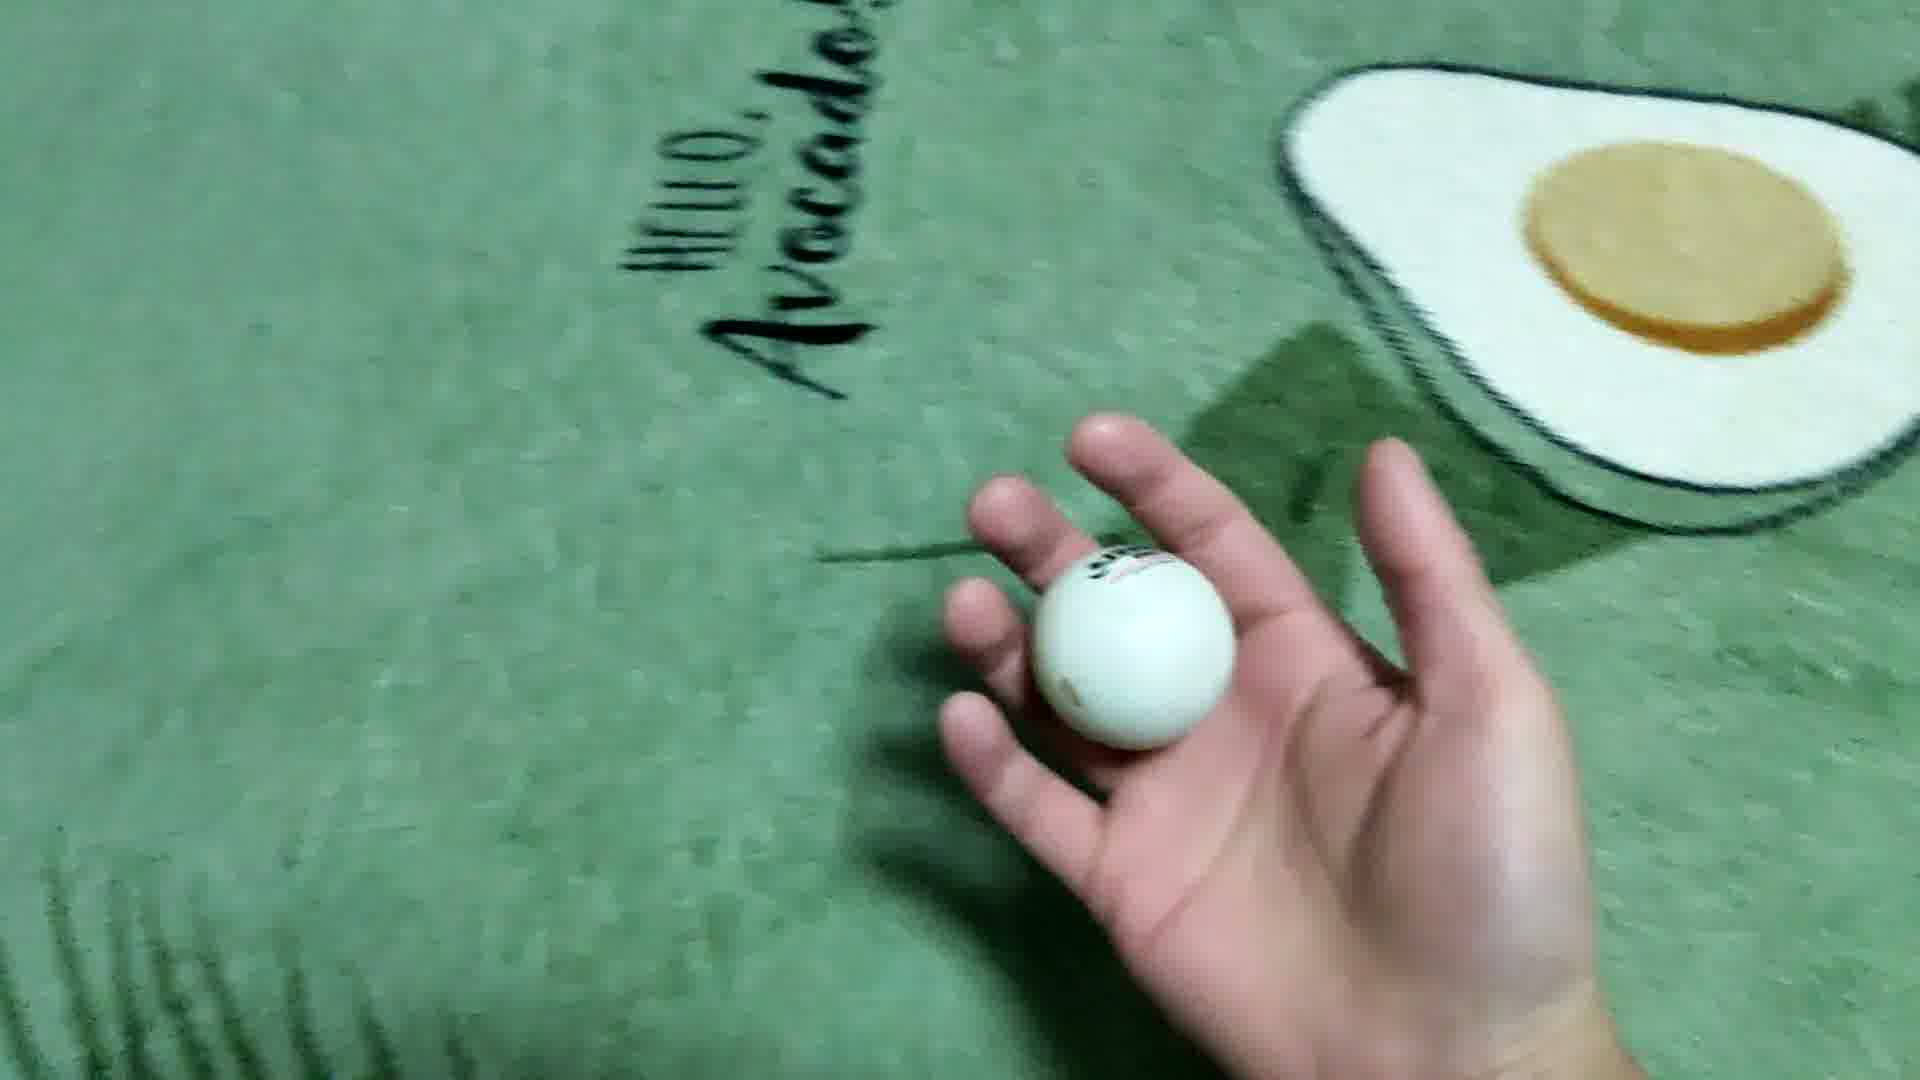Ball: (1030, 541, 1236, 764)
